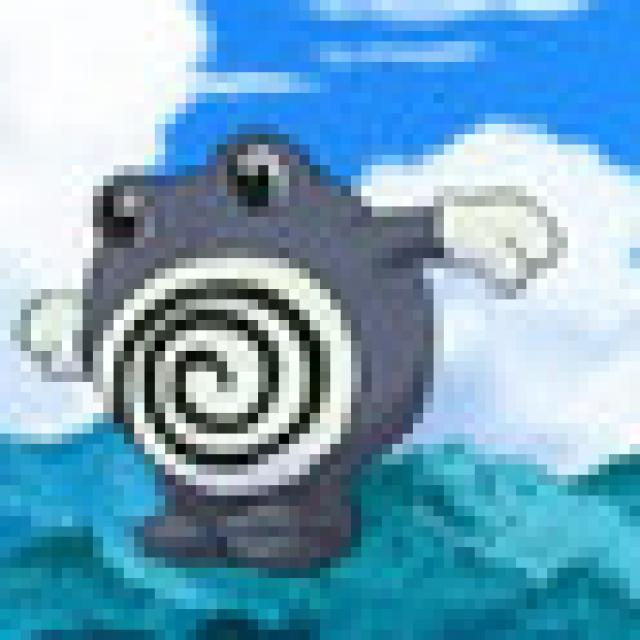Poliwhirl: (19, 138, 556, 570)
